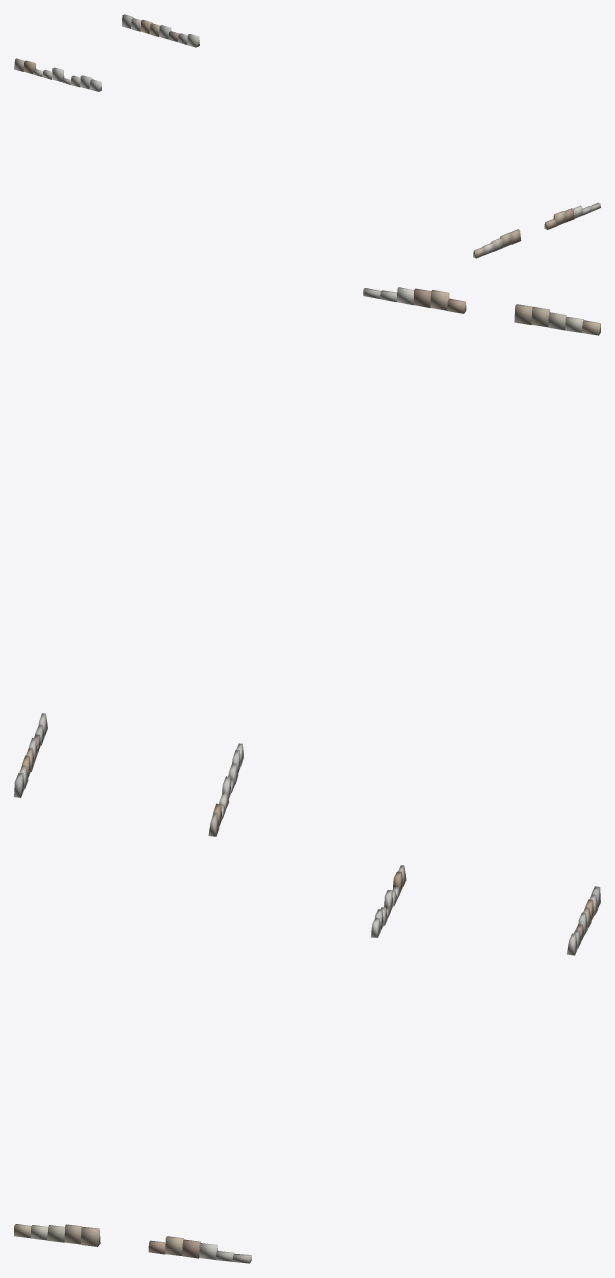
File: farm_-11_-7_far.glb
3 views of the same model, one above another, from view 1: azimuth 30°, elevation 25°; view 2: azimuth 150°, elevation 25°; view 3: azimuth 330°, elevation 25° (orthographic). The views are drawn at different scales.
Visible parts, largest first — view 1: geometry_0; view 2: geometry_0; view 3: geometry_0.
Boxes of the visible parts, x1,y1,x2,y2 form: geometry_0: [14, 14, 600, 258]; geometry_0: [14, 287, 600, 836]; geometry_0: [14, 865, 600, 1263].
Size of the model in its own units: 35.92 by 8.82 by 95.08.
